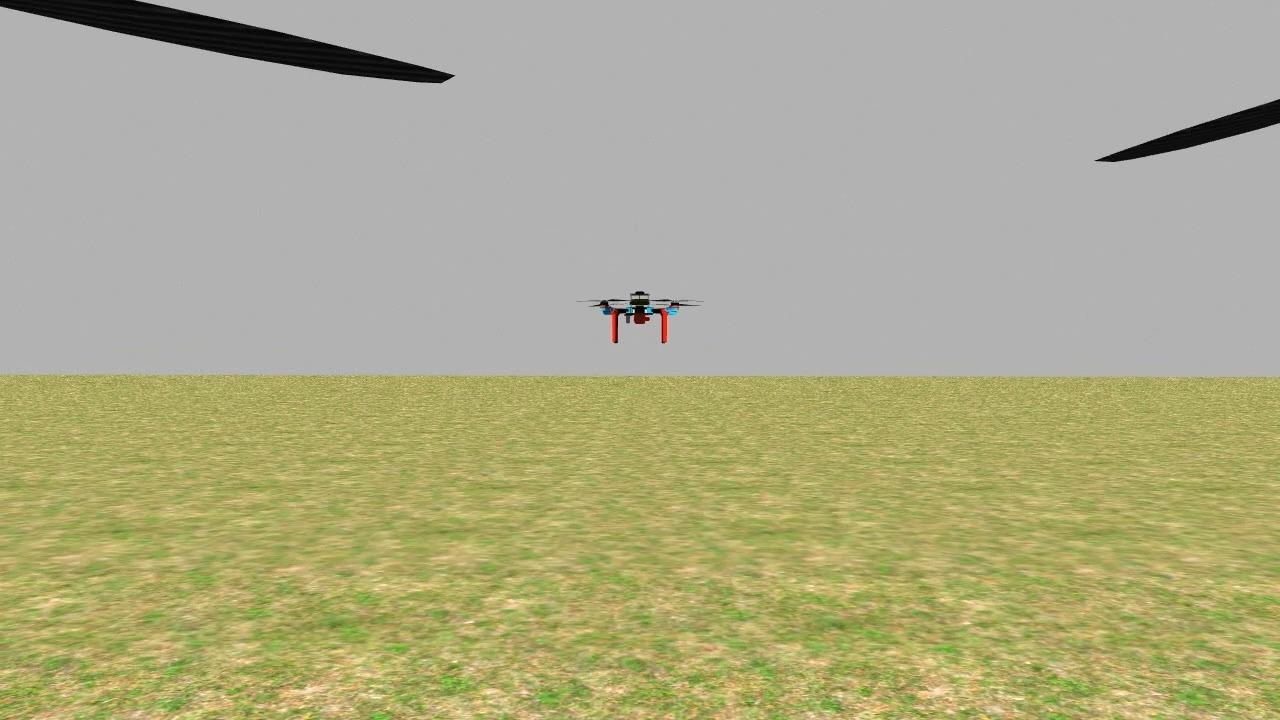UAV: (574, 278, 706, 352)
